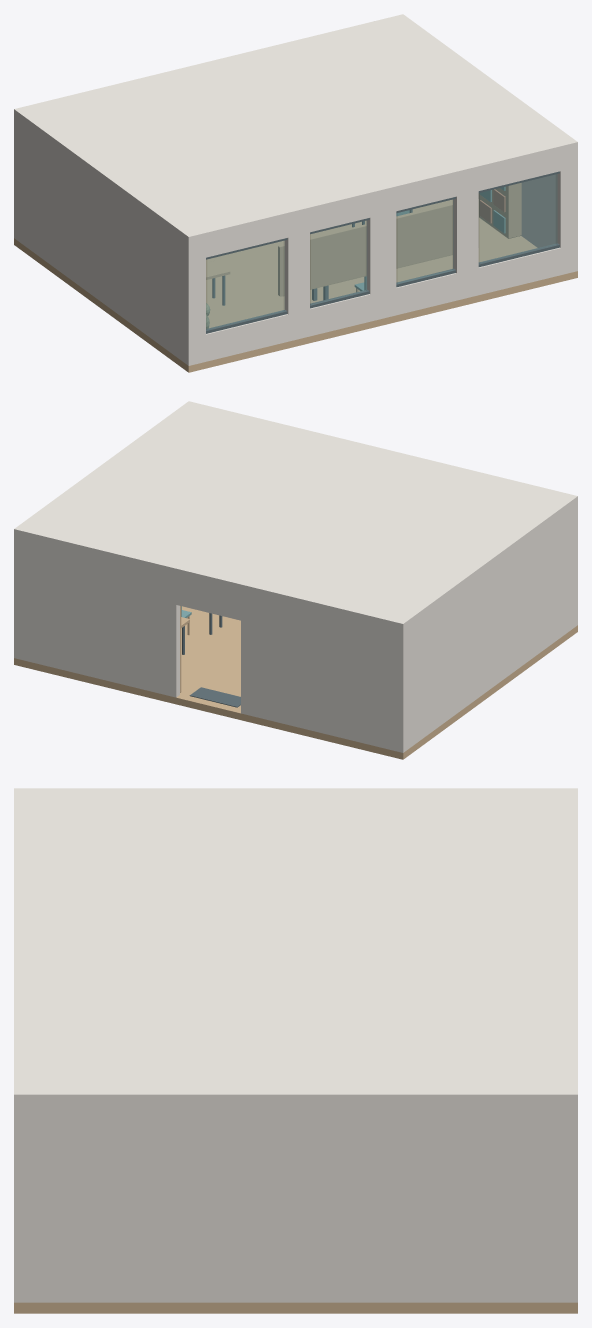
The model's file is school.gltf.
3 renders of one model, top to bottom at view 1: azimuth 30°, elevation 25°; view 2: azimuth 150°, elevation 25°; view 3: azimuth 270°, elevation 25°, orthographic. The views are drawn at different scales.
Parts seen in each view (by area): view 1: ceiling, wall_w, floor, wall_n_sill, wall_n_header, board_frame, window_3_glass, window_0_glass, window_2_glass, window_1_glass, wall_e, wall_n_pillar_2 (+5 smaller); view 2: ceiling, wall_w, wall_s_a, wall_s_b, floor, wall_s_header, wall_e, decor_doormat; view 3: ceiling, wall_e, floor.
Boxes of the visible parts, box(x1,y1,x2,y2) form: ceiling: box(14, 14, 577, 243); wall_w: box(14, 116, 195, 365); floor: box(14, 199, 577, 372); wall_n_sill: box(185, 244, 577, 365); wall_n_header: box(185, 149, 577, 261); board_frame: box(278, 199, 478, 296); window_3_glass: box(479, 174, 557, 263); window_0_glass: box(206, 241, 284, 330); window_2_glass: box(396, 199, 453, 283); window_1_glass: box(310, 220, 366, 304); wall_e: box(521, 149, 577, 272); wall_n_pillar_2: box(366, 211, 396, 294); ceiling: box(14, 401, 577, 630); wall_w: box(396, 503, 577, 752); wall_s_a: box(241, 591, 406, 752); wall_s_b: box(15, 537, 179, 697); floor: box(14, 606, 577, 759); wall_s_header: box(176, 575, 240, 620); wall_e: box(14, 536, 20, 659); decor_doormat: box(189, 687, 240, 707); ceiling: box(14, 788, 577, 1105); wall_e: box(14, 1105, 577, 1302); floor: box(14, 1302, 577, 1313).
Bounding box in the file's own units: 9 × 3 × 7.
